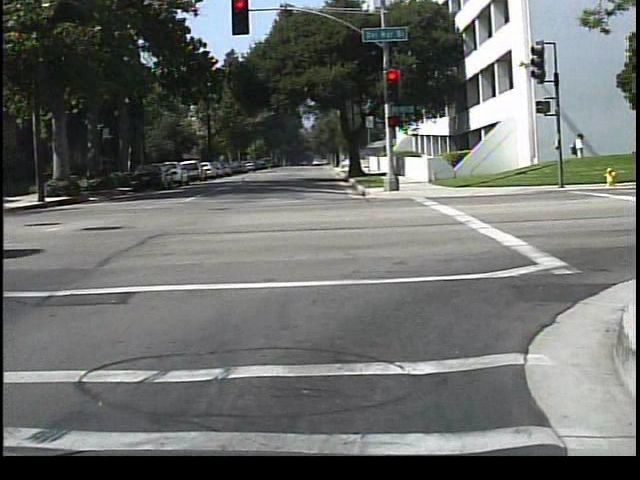person: (566, 126, 589, 180)
